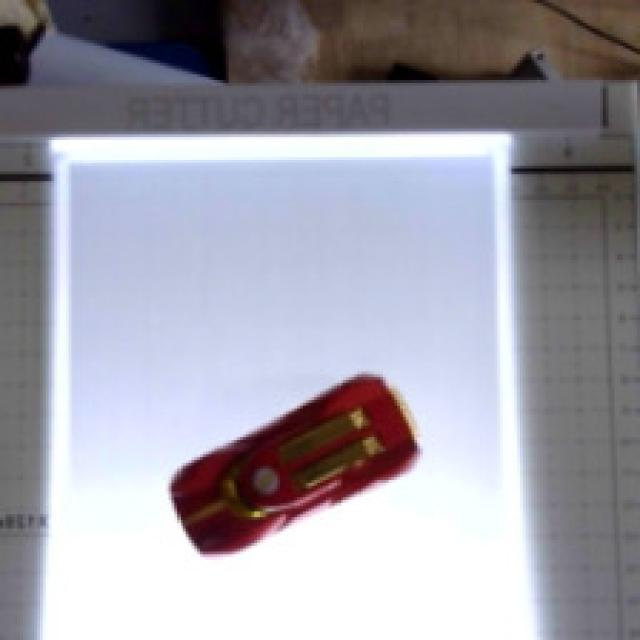Red Car: (135, 362, 483, 591)
